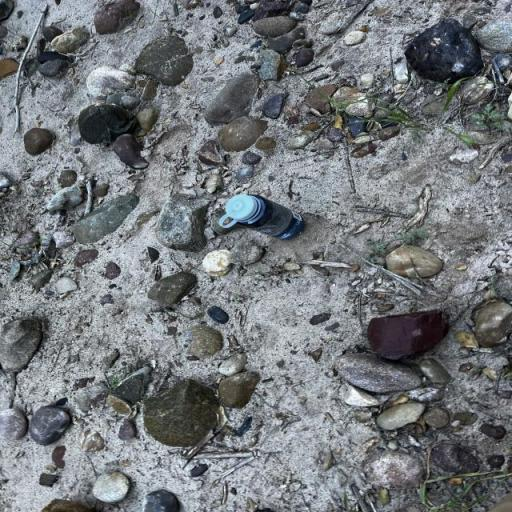bottle: (216, 193, 308, 242)
